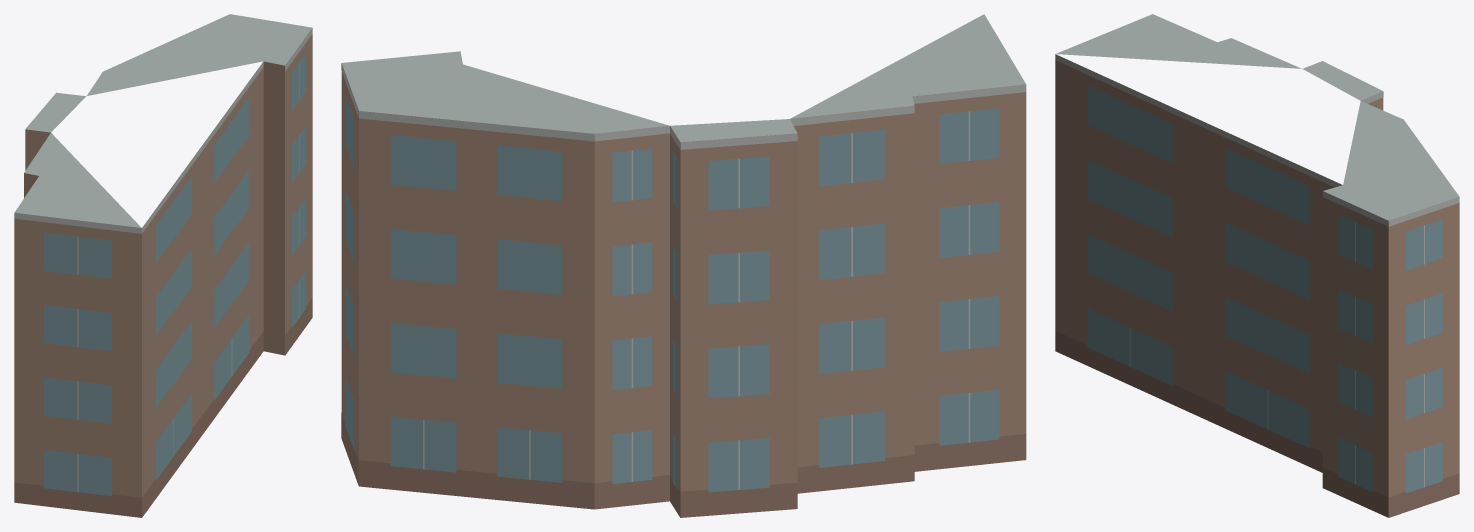
Rendered from survey-upis-32820713.glb.
The picture shows the model from 3 angles, left to right: view 1: azimuth 30°, elevation 25°; view 2: azimuth 150°, elevation 25°; view 3: azimuth 270°, elevation 25°; orthographic projection. The views are drawn at different scales.
Parts seen in each view (by area): view 1: survey-upis-32820713.tmp; view 2: survey-upis-32820713.tmp; view 3: survey-upis-32820713.tmp.
Boxes of the visible parts, x1,y1,x2,y2 form: survey-upis-32820713.tmp: (14,14,312,517); survey-upis-32820713.tmp: (341,14,1026,517); survey-upis-32820713.tmp: (1055,14,1459,517).
Size of the model in its own units: 17.99 by 12.05 by 14.87.
